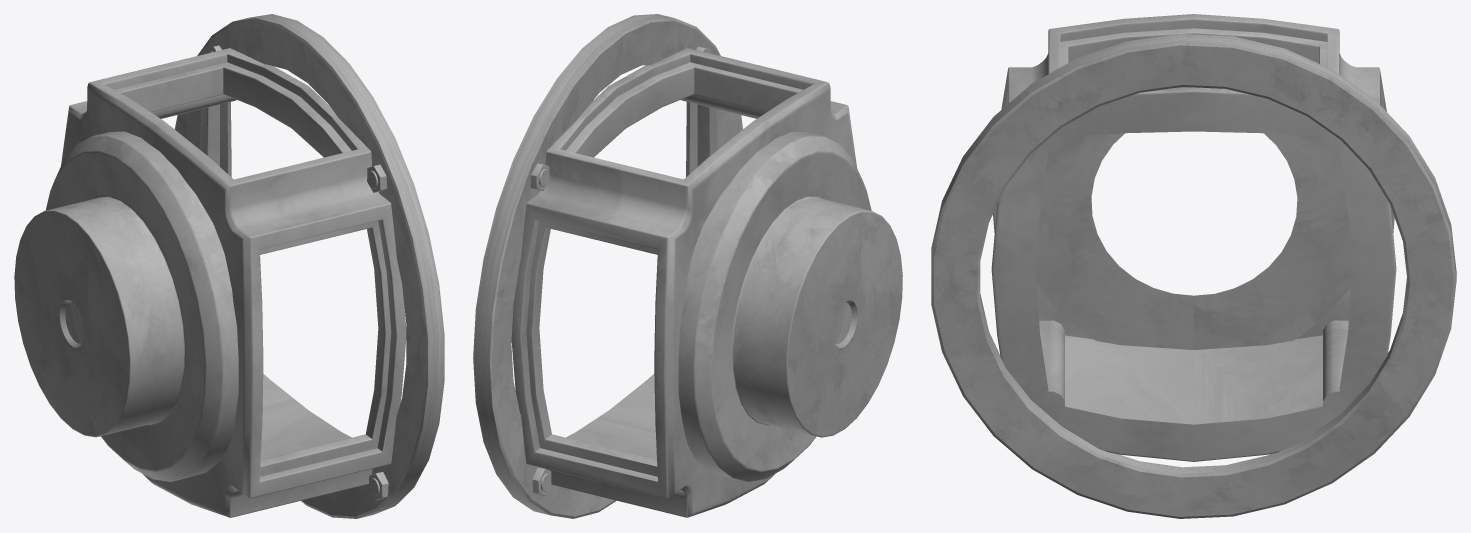
Rendered from Inner Endbell.glb.
3 views of the same model, side by side, from view 1: azimuth 30°, elevation 25°; view 2: azimuth 150°, elevation 25°; view 3: azimuth 270°, elevation 25° (orthographic). The views are drawn at different scales.
Visible parts, largest first — view 1: Plane041, Object019, Object018, Cylinder084; view 2: Plane041, Object019, Object018, Cylinder084; view 3: Object018, Plane041, Object019.
Boxes of the visible parts, x1,y1,x2,y2 form: Plane041: (61, 48, 406, 517); Object019: (14, 131, 238, 481); Object018: (174, 14, 444, 518); Cylinder084: (207, 45, 387, 192); Plane041: (511, 48, 856, 517); Object019: (678, 132, 902, 482); Object018: (473, 14, 742, 518); Cylinder084: (530, 46, 711, 190); Object018: (931, 34, 1456, 518); Plane041: (991, 14, 1396, 461); Object019: (1036, 87, 1351, 349).
Bounding box in the file's own units: 0.3374 × 0.61 × 0.6093.
Materials: 2 (2 with a texture image).
